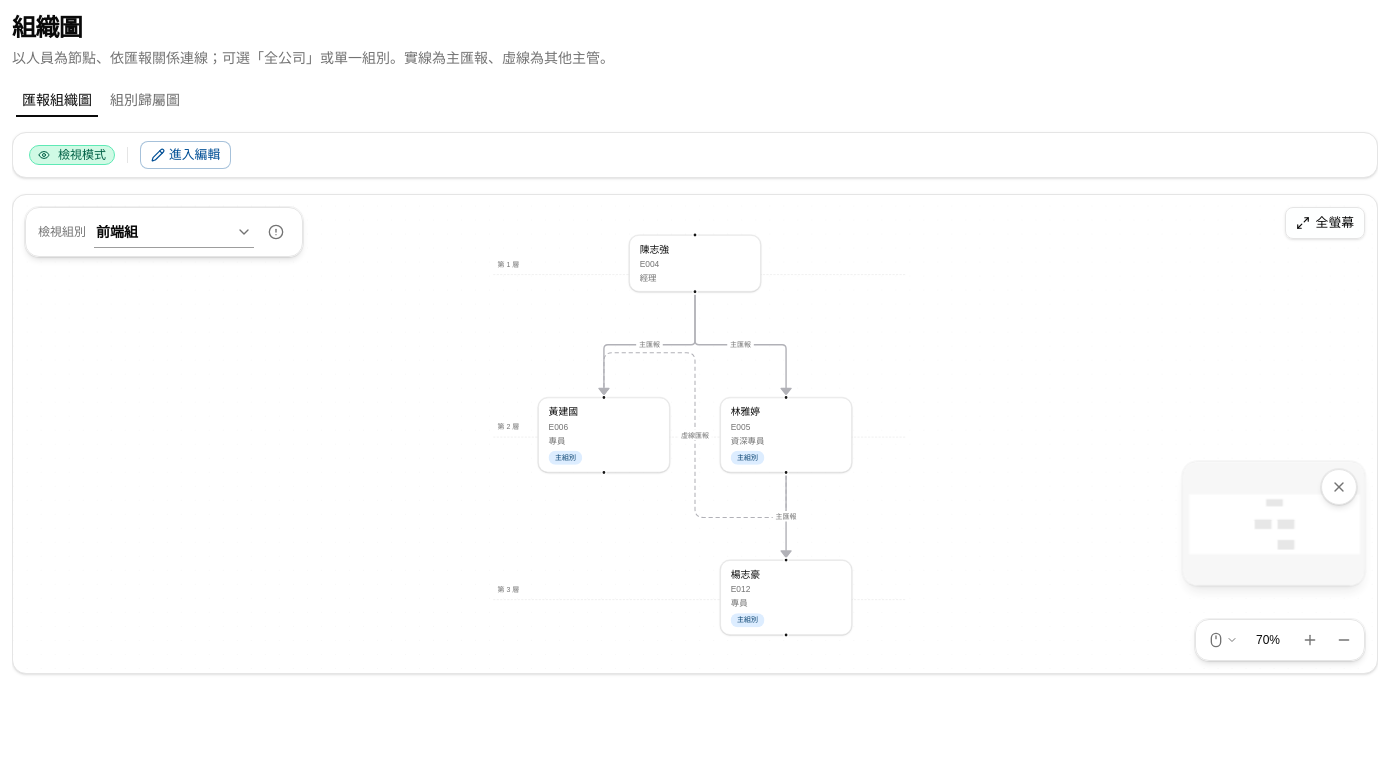
Scenario: OrgChartPage（@deprecated）掛載冒煙 › 仍可掛載並渲染頁首「組織圖」與兩個圖表 tab（匯報組織圖／組別歸屬圖）
The width and height of the screenshot is (1378, 780).
expect the heading "組織圖" is shown: met, box [12, 14, 82, 41]
expect the tab "匯報組織圖" is shown: met, box [15, 88, 99, 112]
切到「組別歸屬圖」仍能浮現種類過濾子 Tabs（行為等價；權威斷言在 WorkbenchPage.test）。
What coordinates should you click on to do the following:
click the tab "組別歸屬圖"
I would click on:
 (145, 100)
Its box is [103, 88, 187, 112].
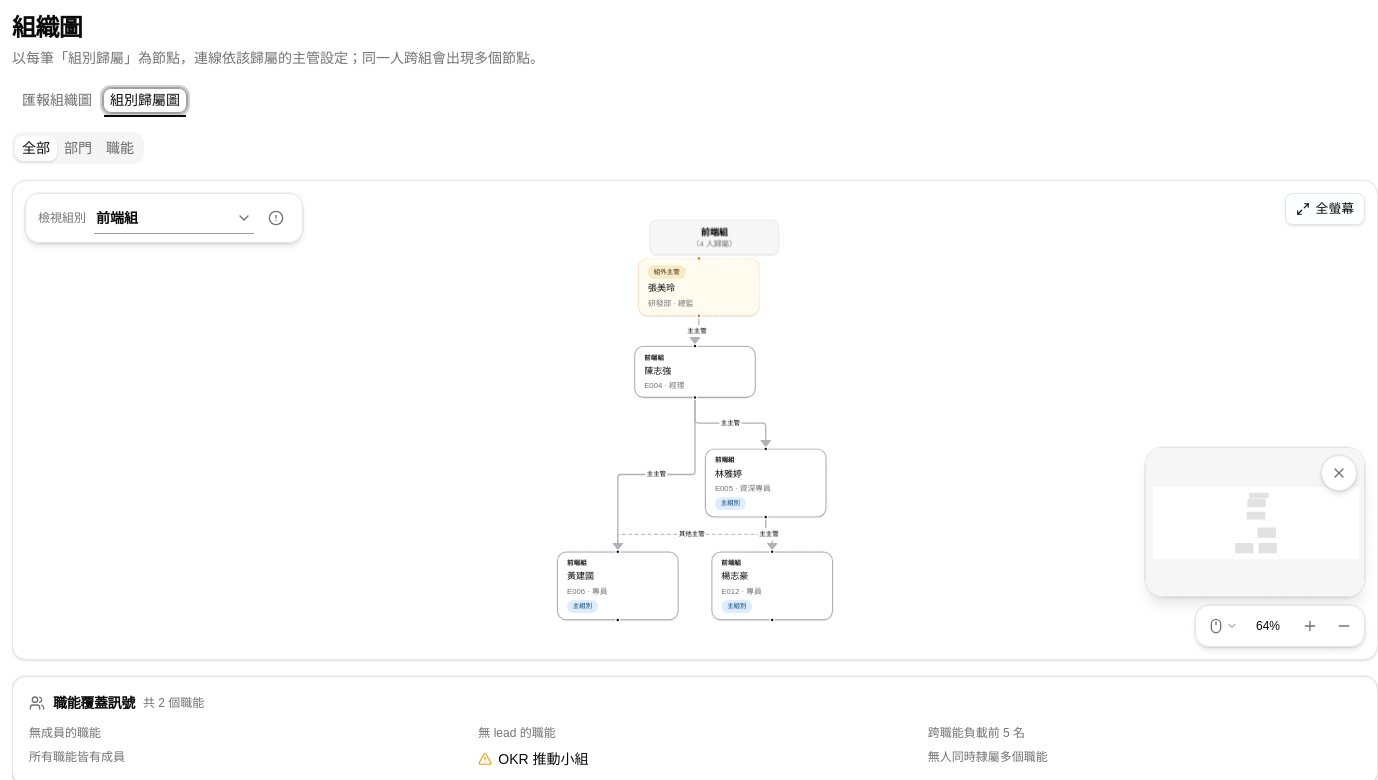
expect the tab "部門" is shown: met, box [57, 136, 99, 160]
